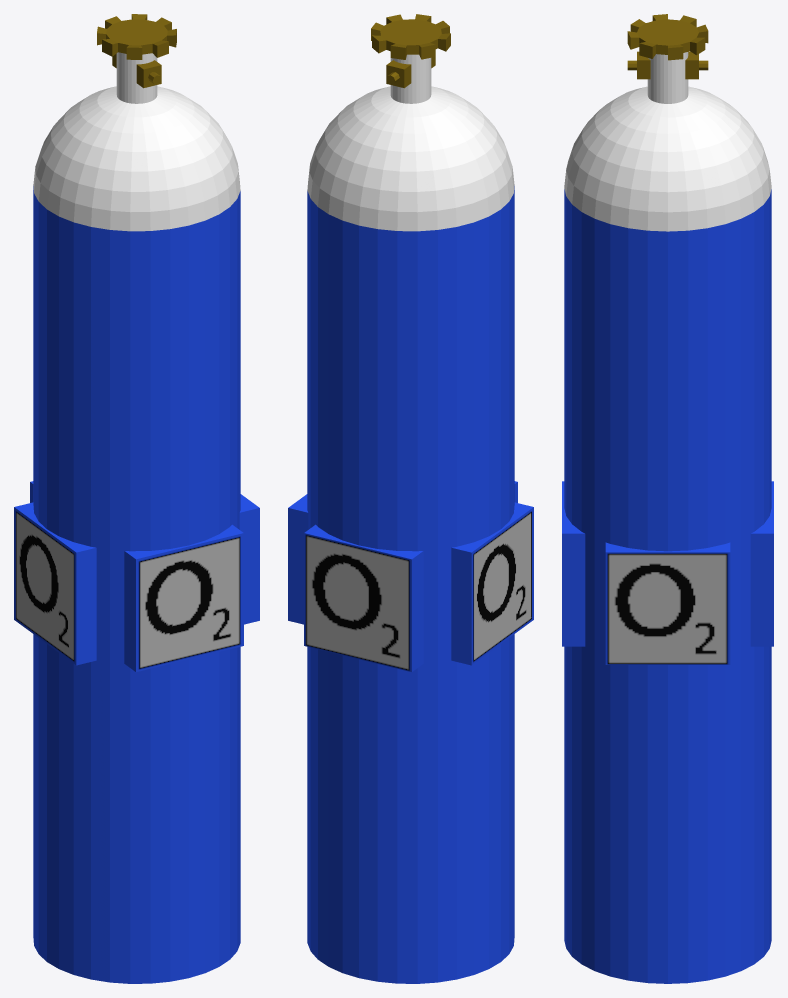
Rendered from OxygenTank.fbx.
3 renders of one model, left to right at view 1: azimuth 30°, elevation 25°; view 2: azimuth 150°, elevation 25°; view 3: azimuth 270°, elevation 25°, orthographic.
Parts seen in each view (by area): view 1: Cylinder, Cube.002, Sphere, Cube; view 2: Cylinder, Cube.002, Sphere, Cube; view 3: Cylinder, Sphere, Cube.002, Cube.
Part boxes in pixels (left/top/right/bottom): Cylinder: left=33, top=186, right=240, bottom=983; Cube.002: left=14, top=481, right=259, bottom=671; Sphere: left=33, top=52, right=240, bottom=231; Cube: left=97, top=14, right=176, bottom=88; Cylinder: left=307, top=186, right=514, bottom=983; Cube.002: left=288, top=481, right=533, bottom=671; Sphere: left=307, top=54, right=514, bottom=231; Cube: left=371, top=14, right=450, bottom=88; Cylinder: left=564, top=189, right=771, bottom=983; Sphere: left=564, top=52, right=771, bottom=231; Cube.002: left=562, top=481, right=773, bottom=664; Cube: left=627, top=14, right=708, bottom=79.
Bounding box in the file's own units: 204 × 976 × 204.
Materials: 4 (4 with a texture image).
